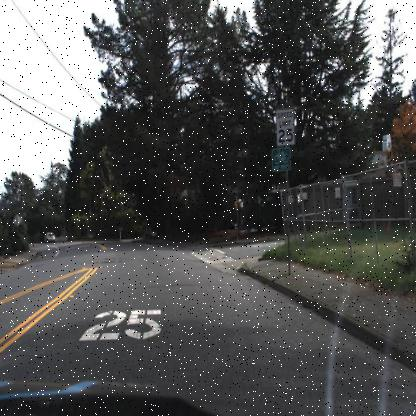car: (41, 230, 56, 248), (42, 229, 56, 245)
